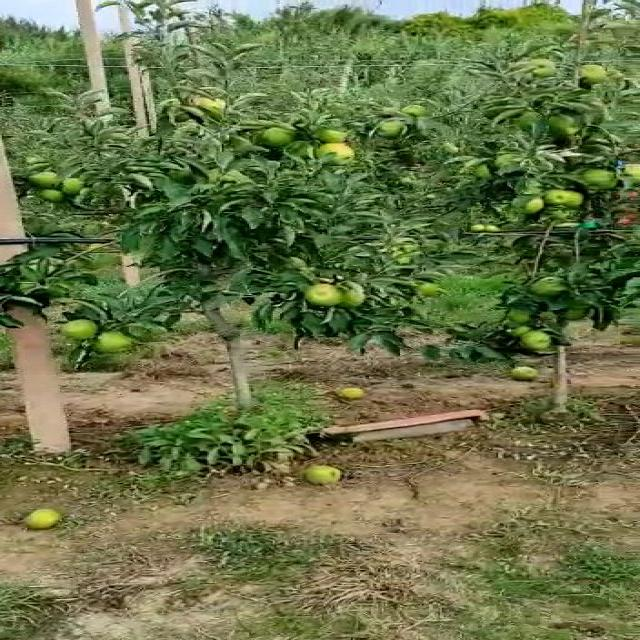100-_ripeness: (522, 276, 571, 299), (311, 142, 356, 164), (93, 331, 129, 357), (578, 63, 616, 86), (302, 284, 345, 303), (518, 330, 553, 353), (318, 123, 355, 144), (609, 162, 640, 187), (62, 314, 96, 336), (338, 283, 367, 308), (262, 131, 298, 150), (196, 95, 236, 112), (584, 169, 616, 190), (524, 55, 556, 75), (542, 190, 574, 210), (378, 118, 411, 135), (513, 195, 540, 214), (22, 171, 56, 186), (38, 189, 73, 203), (56, 179, 84, 195), (402, 105, 424, 112)
